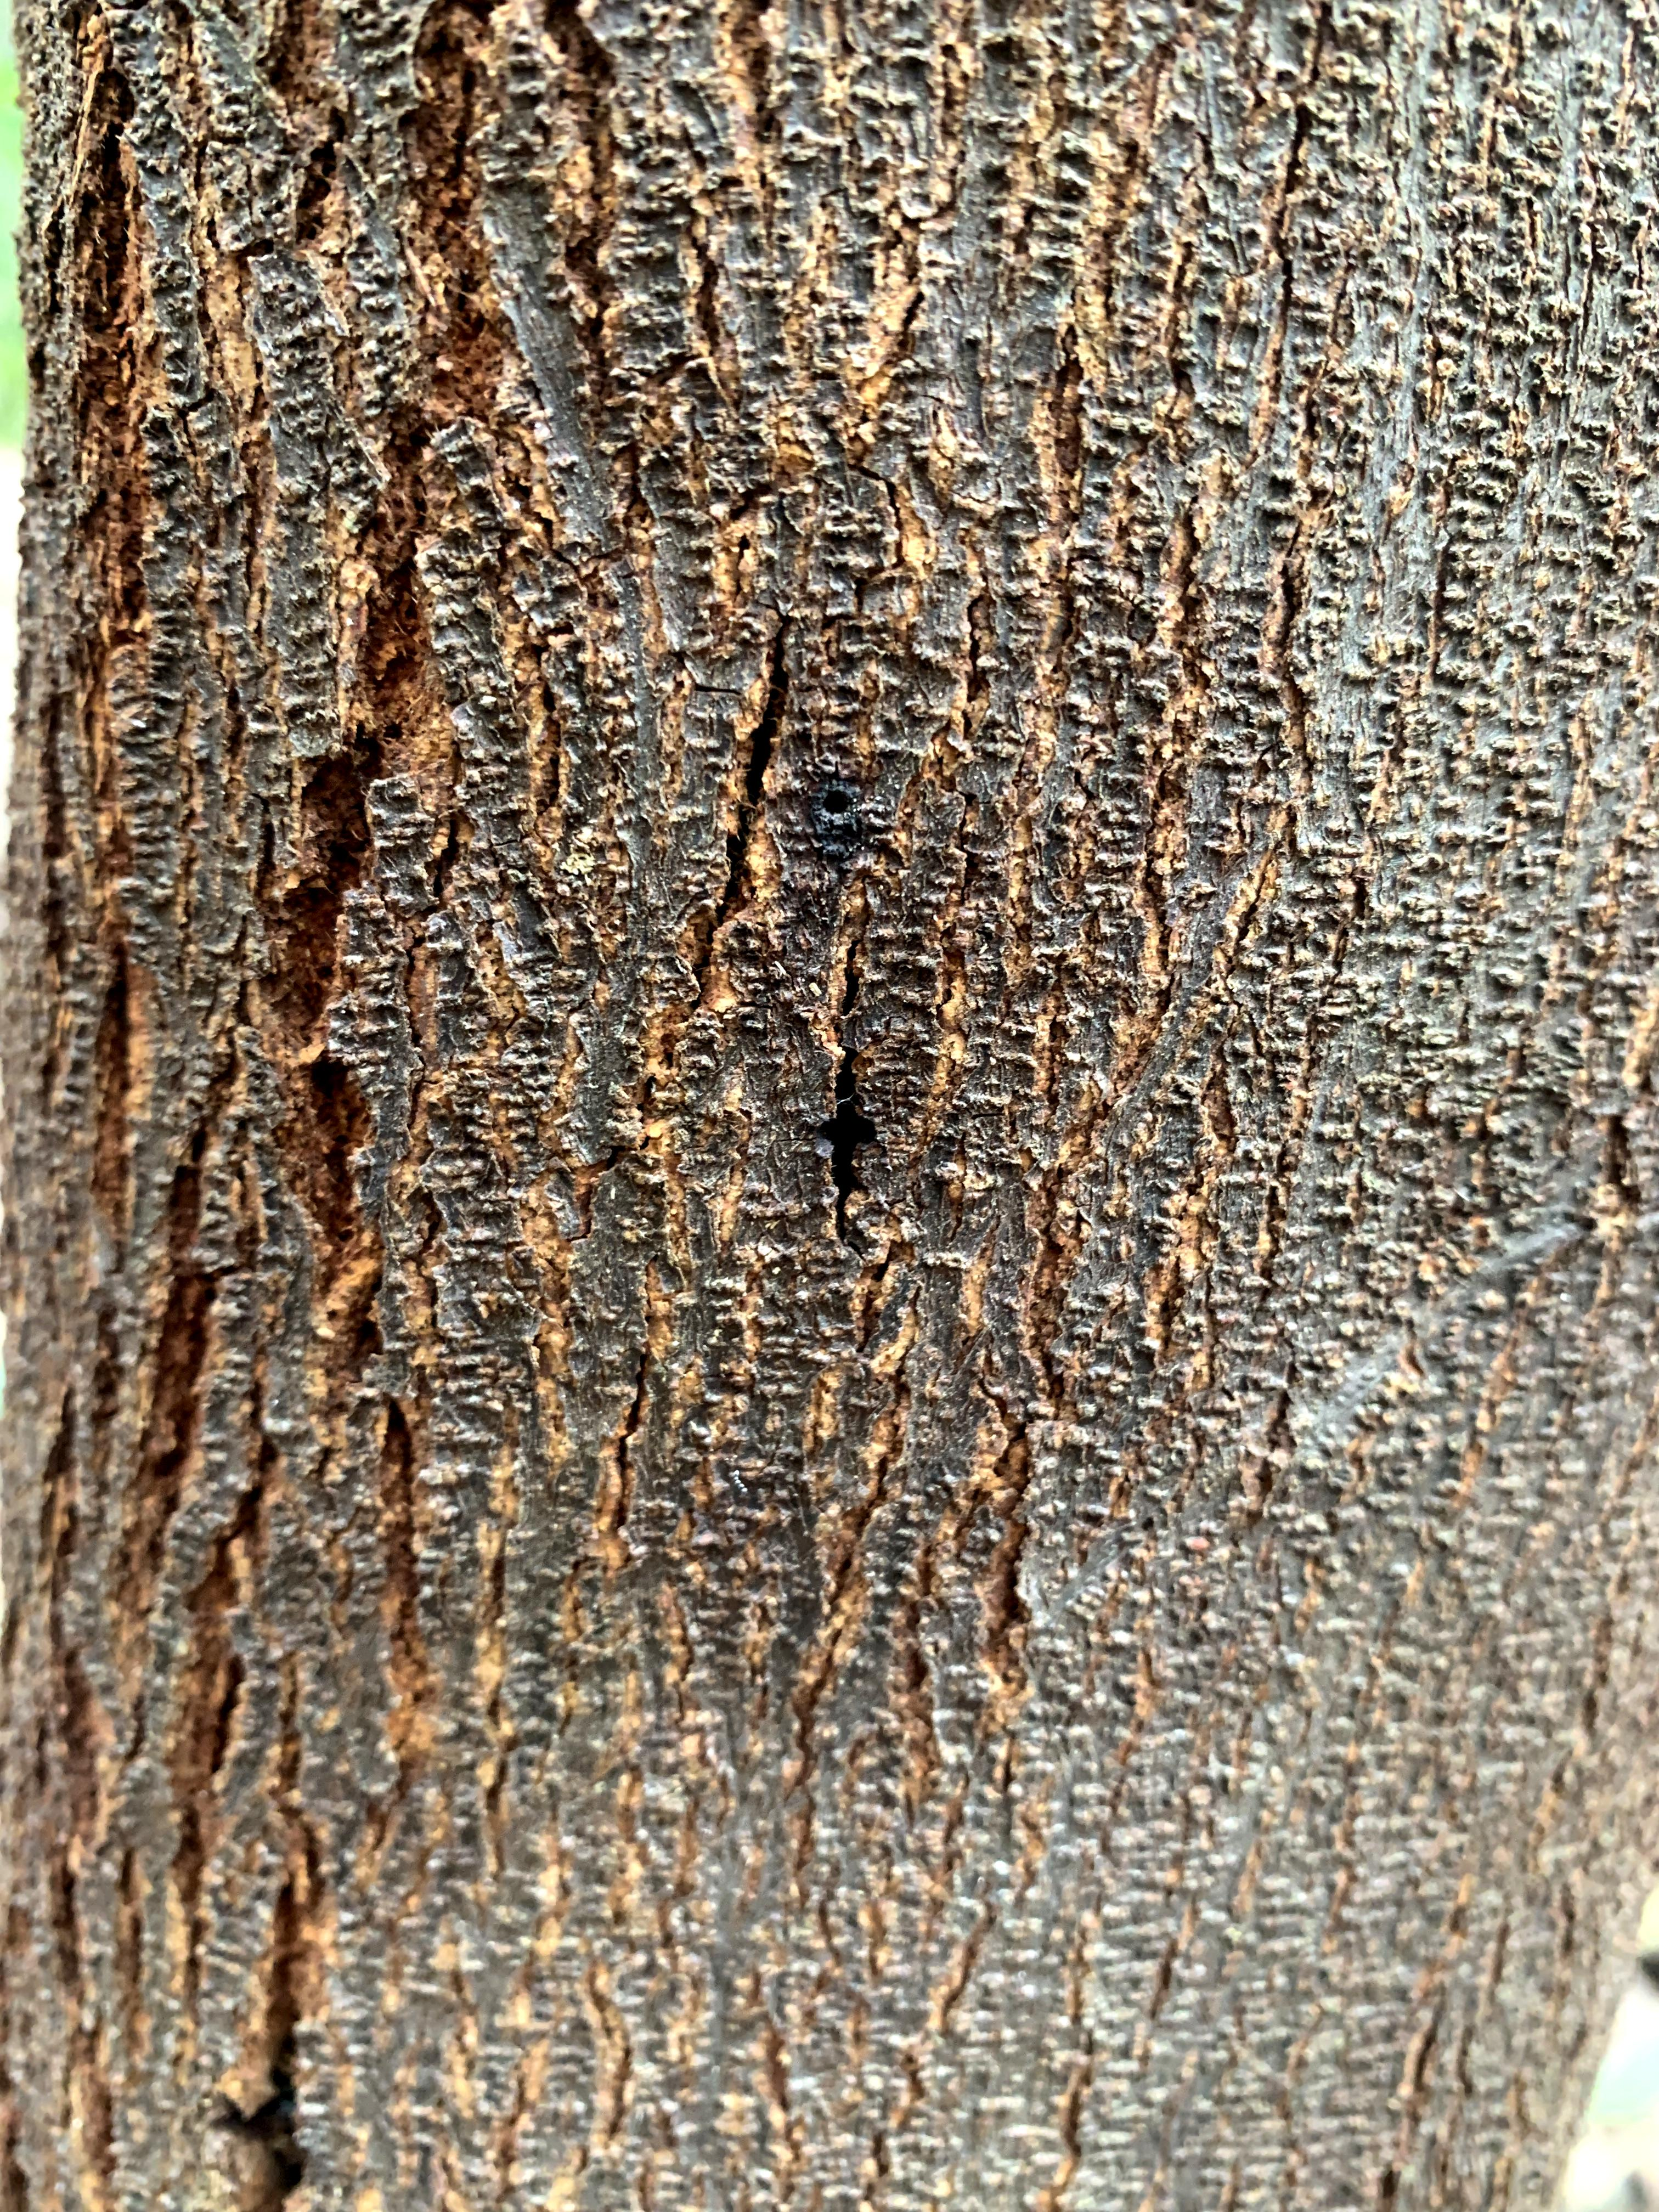Stem Borer: (767, 986, 955, 1301)
